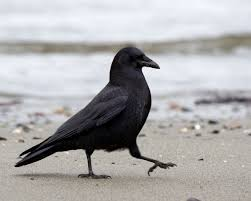Walking: (8, 26, 186, 187)
